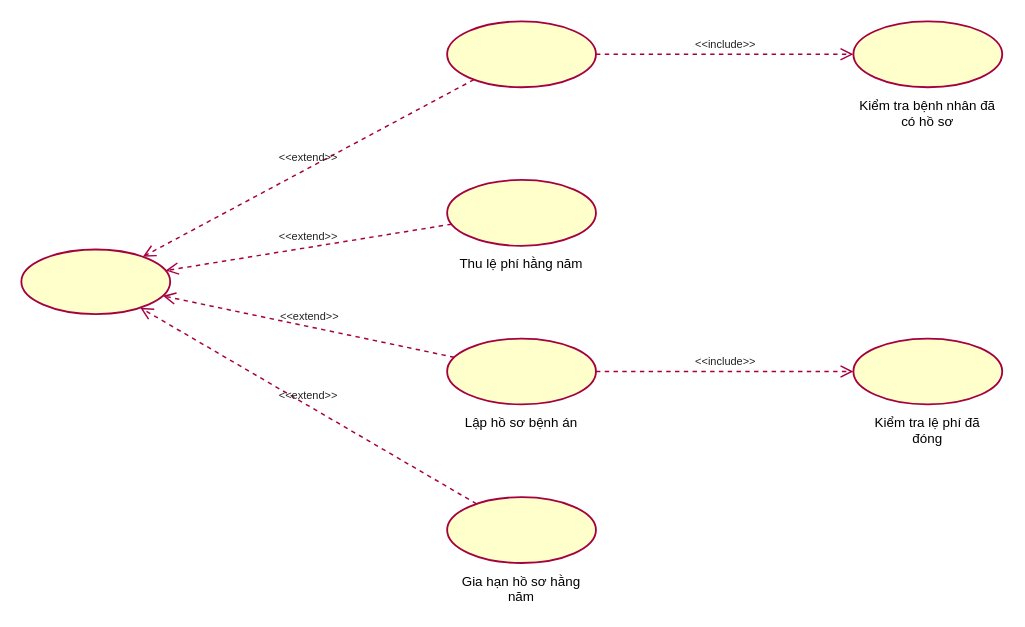
Image size: 1025x627. Some labels were removed from this diagram. The box of each missing label's shape, as (x1, y1, x2, y2) in pixels:
Lập phiếu đăng ký: (446, 20, 596, 88)
Đăng ký - lập hồ sơ bệnh án (from Use Case View): (20, 248, 171, 315)
